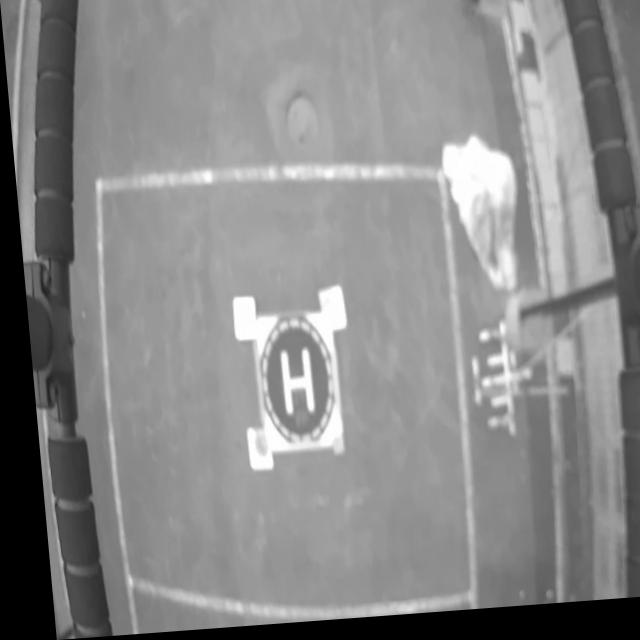Helipad: (274, 352, 306, 417)
